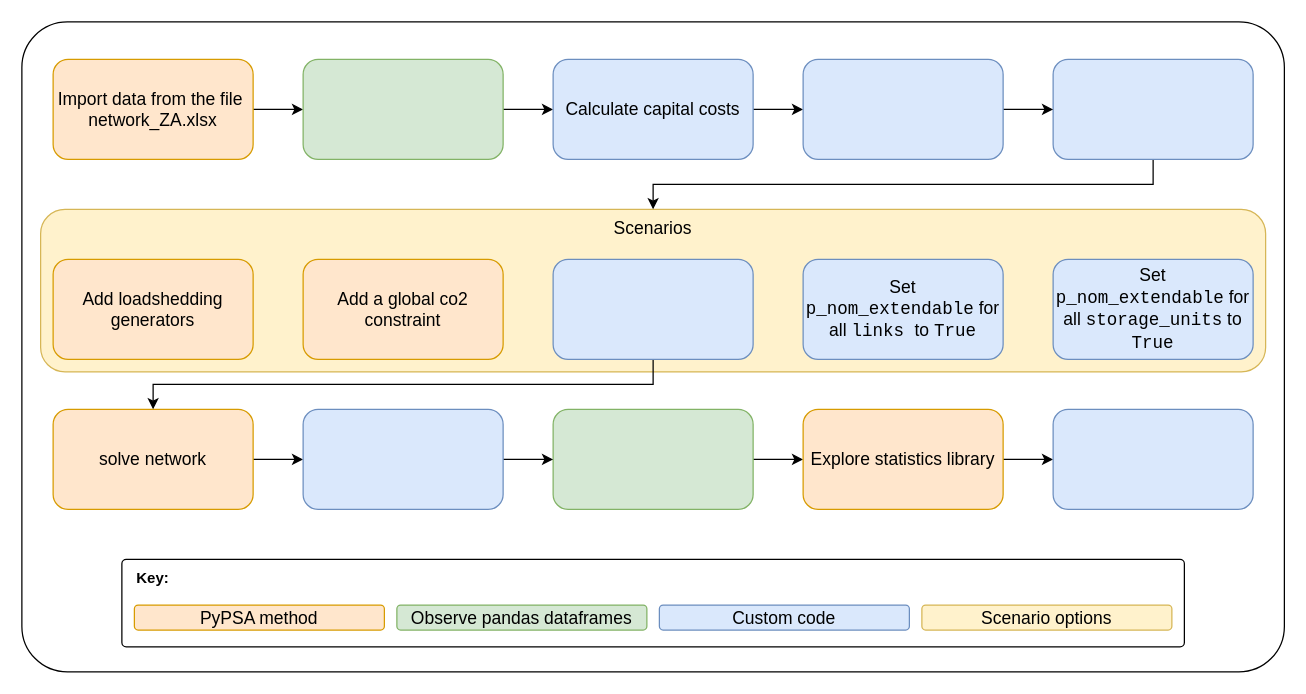
The diagram is 1306 pixels wide and 694 high, and some of its shapes have lost their labels. Each missing label, with the centre of its shape:
Inspect results: the point at 652,458
Inspect the network: the point at 402,108
Plot key results: the point at 1152,458
Postprocess results: the point at 402,458
Reduce the snapshots to one month for computational simplicity: the point at 1152,108
Set p_nom_extendable for all generators to True: the point at 652,308
Update capital_costs: the point at 902,108
